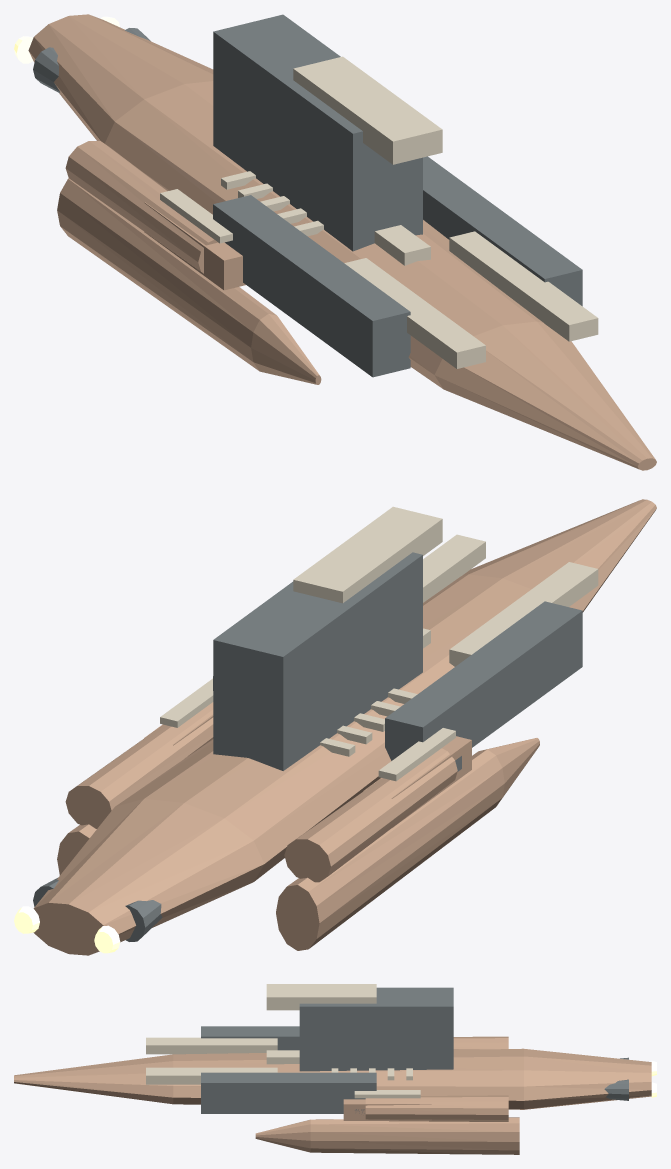
3 renders of one model, top to bottom at view 1: azimuth 30°, elevation 25°; view 2: azimuth 150°, elevation 25°; view 3: azimuth 270°, elevation 25°, orthographic. The views are drawn at different scales.
Bounding box in the file's own units: 2.95 × 2.59 × 11.23.
